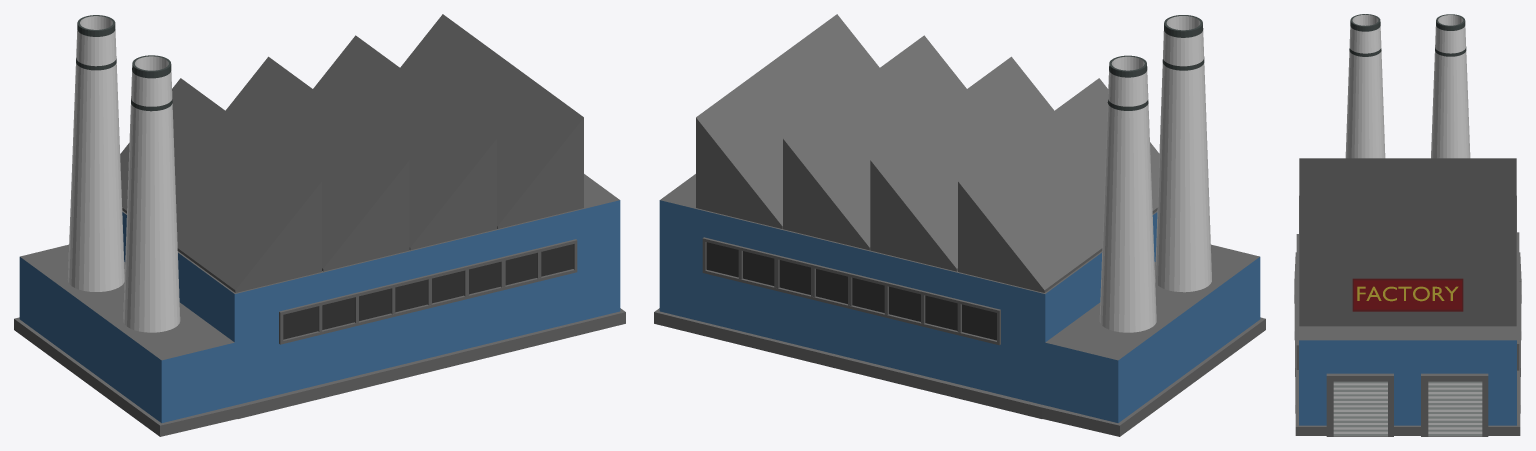
Rendered from Building_Factory.fbx.
3 renders of one model, left to right at view 1: azimuth 30°, elevation 25°; view 2: azimuth 150°, elevation 25°; view 3: azimuth 270°, elevation 25°, orthographic. The views are drawn at different scales.
Visible parts, largest first — view 1: Cube; view 2: Cube; view 3: Cube, Text.
Boxes of the visible parts, left/top/right/bottom form: Cube: left=14, top=14, right=625, bottom=436; Cube: left=654, top=14, right=1265, bottom=436; Cube: left=1294, top=14, right=1521, bottom=436; Text: left=1357, top=286, right=1458, bottom=301.
Size of the model in its own units: 1082 by 732 by 591.
